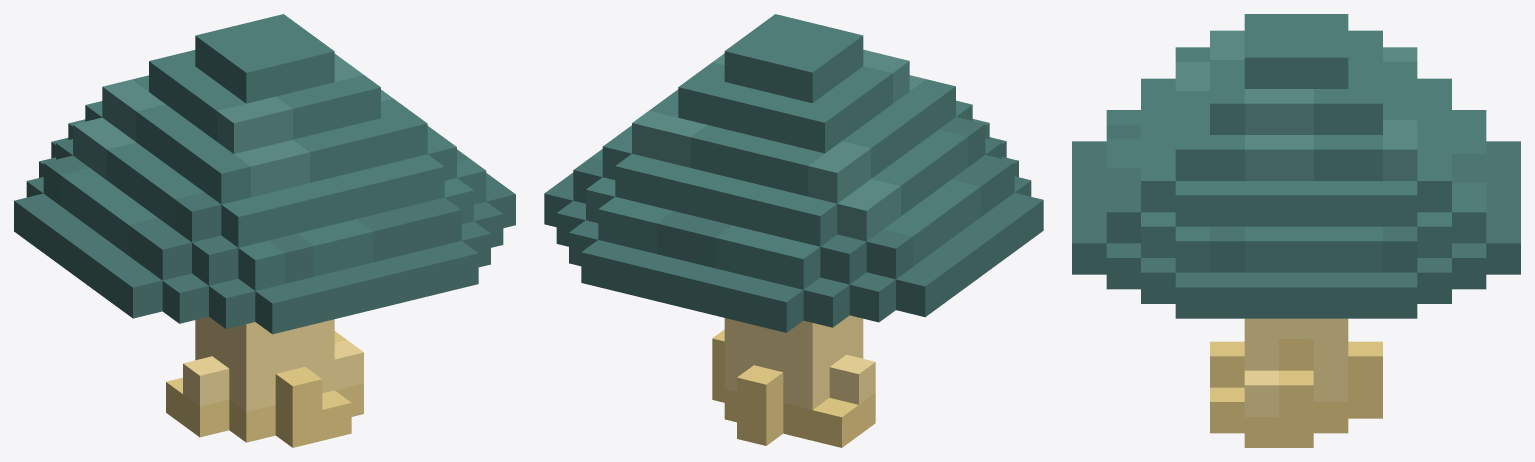
File: mushroom2.fbx
3 views of the same model, side by side, from view 1: azimuth 30°, elevation 25°; view 2: azimuth 150°, elevation 25°; view 3: azimuth 270°, elevation 25° (orthographic). The views are drawn at different scales.
Visible parts, largest first — view 1: mushroom2; view 2: mushroom2; view 3: mushroom2.
Part boxes in pixels (x1,y1,x2,y2): mushroom2: [14, 14, 515, 447]; mushroom2: [544, 14, 1043, 447]; mushroom2: [1072, 14, 1520, 447].
Size of the model in its own units: 13 by 12 by 13.
Materials: 1 (1 with a texture image).
